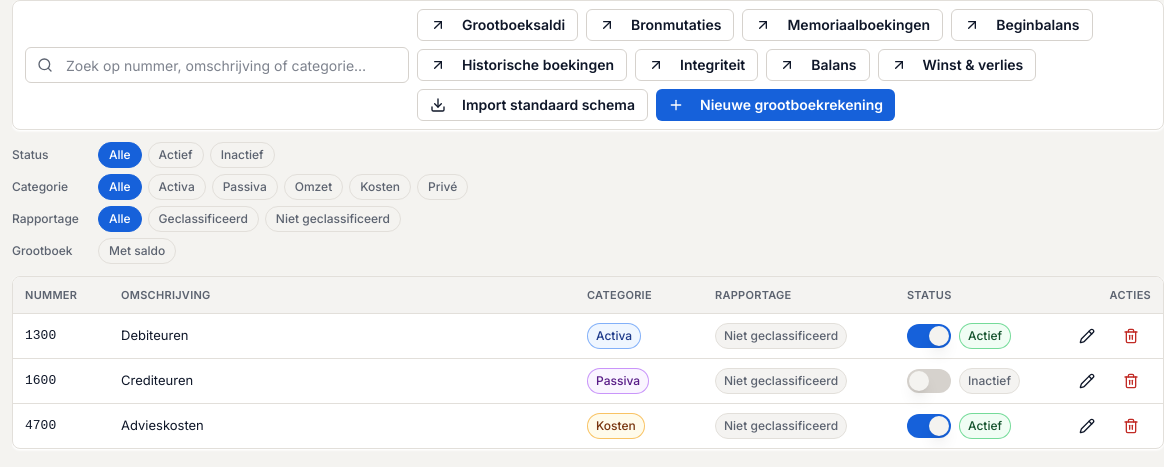
Rekeningschema — zoeken en filters › filtert op statusfilter Actief
This screenshot has width=1164, height=467.
Click the button "Actief" at (176, 155), box top-left (148, 142), bottom-right (204, 168)
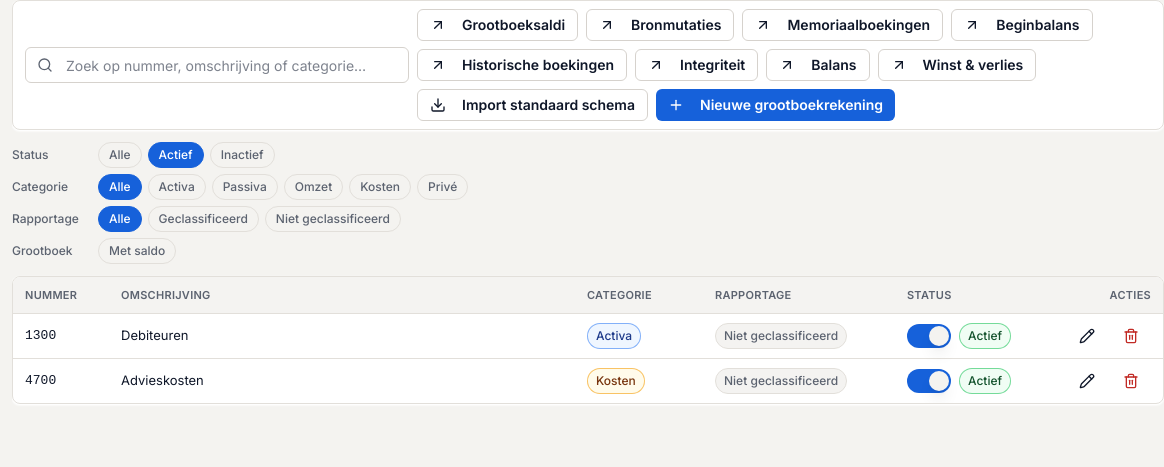
Check: the text "Debiteuren" is shown, box top-left (109, 313), bottom-right (575, 358)
Check: the text "Crediteuren" is gone
